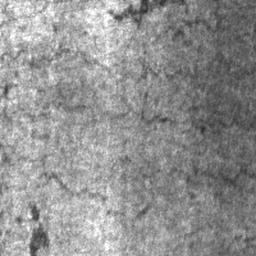Crazing: (2, 153, 152, 256), (0, 42, 256, 83), (105, 91, 256, 139), (97, 0, 226, 49), (3, 83, 95, 126), (167, 165, 256, 209), (0, 0, 50, 29), (110, 155, 160, 179), (234, 235, 256, 245), (0, 183, 9, 196)
